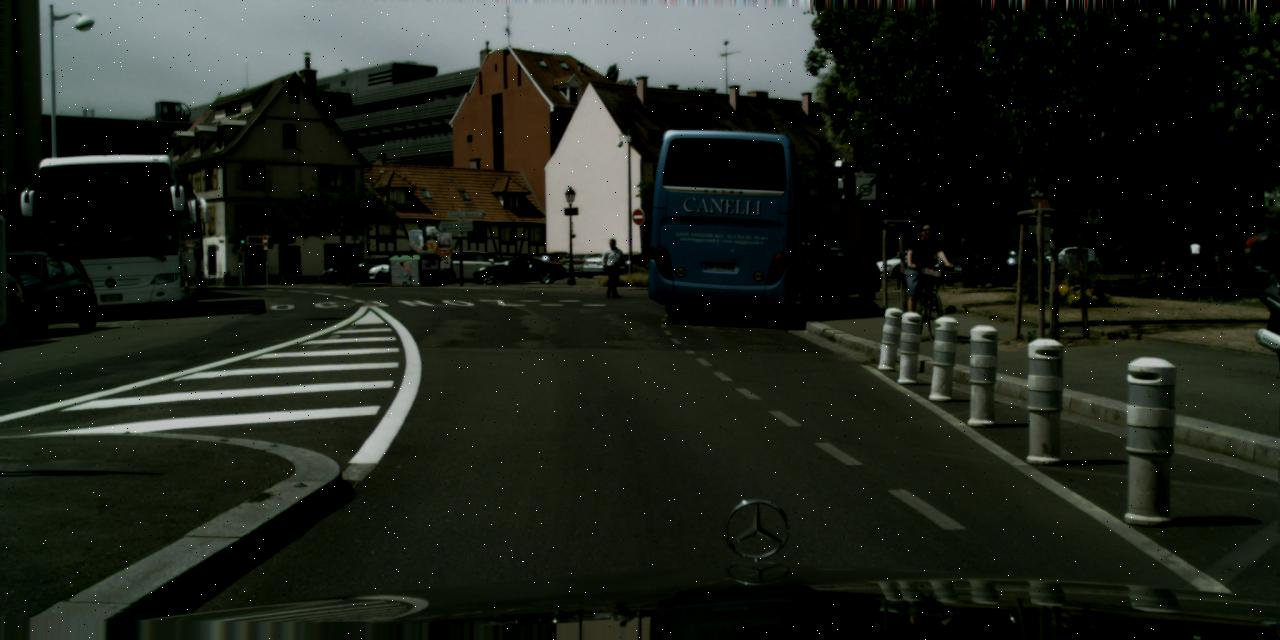ped: (906, 221, 944, 315), (600, 237, 624, 297), (829, 252, 850, 302), (1113, 240, 1126, 272), (974, 248, 986, 280), (1190, 240, 1200, 268)
